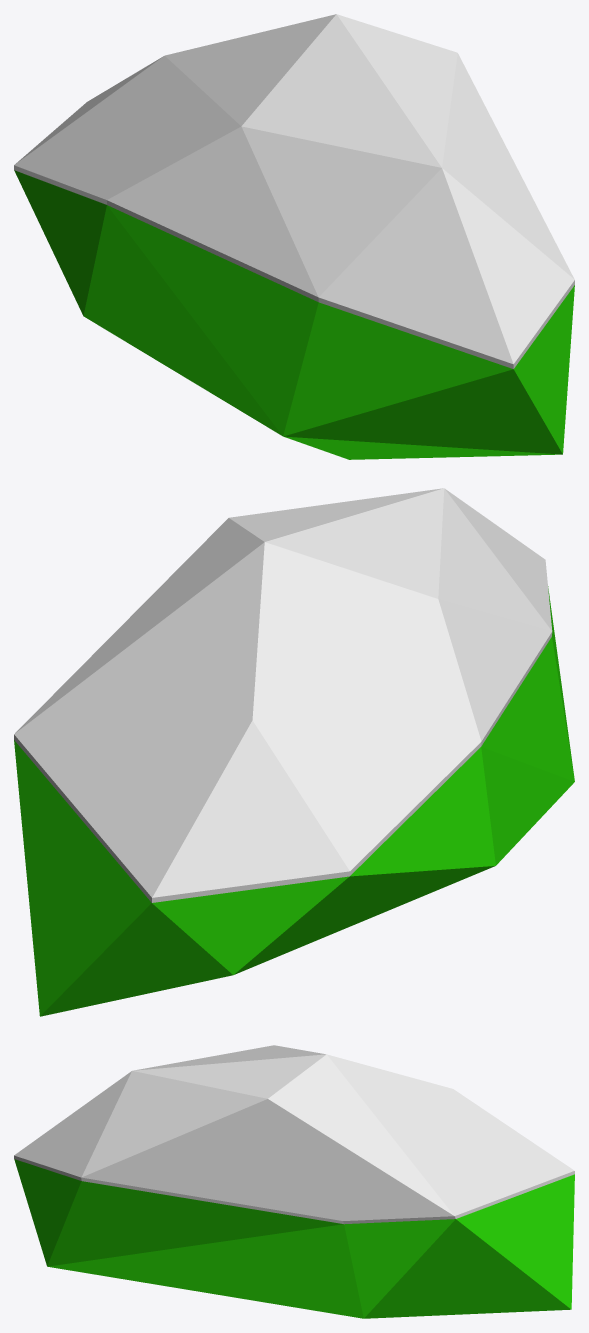
The model's file is Bush#2_Snow.fbx.
3 renders of one model, top to bottom at view 1: azimuth 30°, elevation 25°; view 2: azimuth 150°, elevation 25°; view 3: azimuth 270°, elevation 25°, orthographic. The views are drawn at different scales.
Parts seen in each view (by area): view 1: Bush#2_Snow; view 2: Bush#2_Snow; view 3: Bush#2_Snow.
Boxes of the visible parts, x1,y1,x2,y2 form: Bush#2_Snow: (14,14,574,459); Bush#2_Snow: (14,488,574,1016); Bush#2_Snow: (14,1045,574,1318).
Size of the model in its own units: 224 by 192 by 400.
